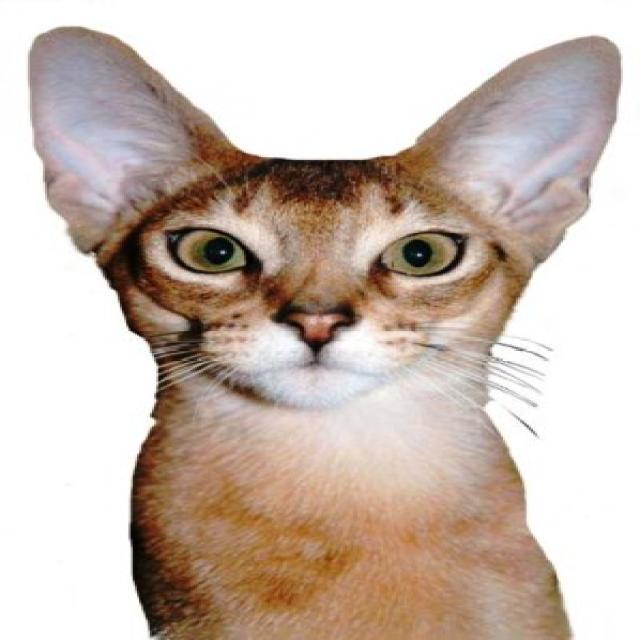Abyssinian: (22, 25, 624, 418)
